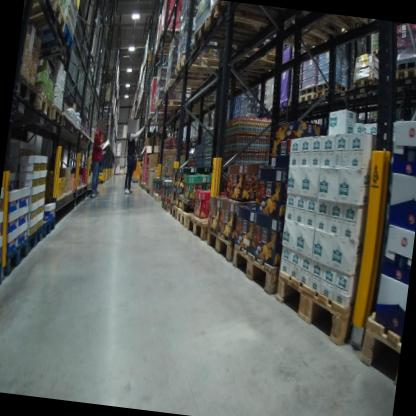pallet: (268, 264, 368, 350), (225, 243, 304, 299), (356, 308, 404, 385), (191, 17, 268, 58), (204, 0, 291, 36), (272, 14, 341, 53), (291, 11, 373, 41), (219, 47, 286, 82), (34, 16, 79, 68), (24, 0, 69, 47), (173, 53, 229, 82), (0, 233, 30, 282), (204, 223, 236, 266), (12, 72, 42, 112), (162, 75, 208, 99), (316, 80, 349, 108), (185, 212, 215, 242), (348, 76, 382, 102), (155, 23, 187, 47), (151, 96, 193, 113), (33, 88, 55, 119), (392, 64, 416, 91), (151, 42, 181, 62), (39, 210, 57, 242), (25, 223, 42, 255), (147, 108, 177, 125), (0, 250, 10, 301), (174, 206, 193, 232), (47, 102, 65, 128), (176, 191, 196, 212), (299, 89, 318, 111), (368, 113, 387, 130), (286, 93, 301, 113), (354, 111, 369, 126), (159, 196, 172, 213), (153, 189, 166, 206), (168, 201, 178, 221), (150, 188, 155, 201), (143, 184, 148, 192), (148, 187, 152, 195), (146, 186, 149, 195)
